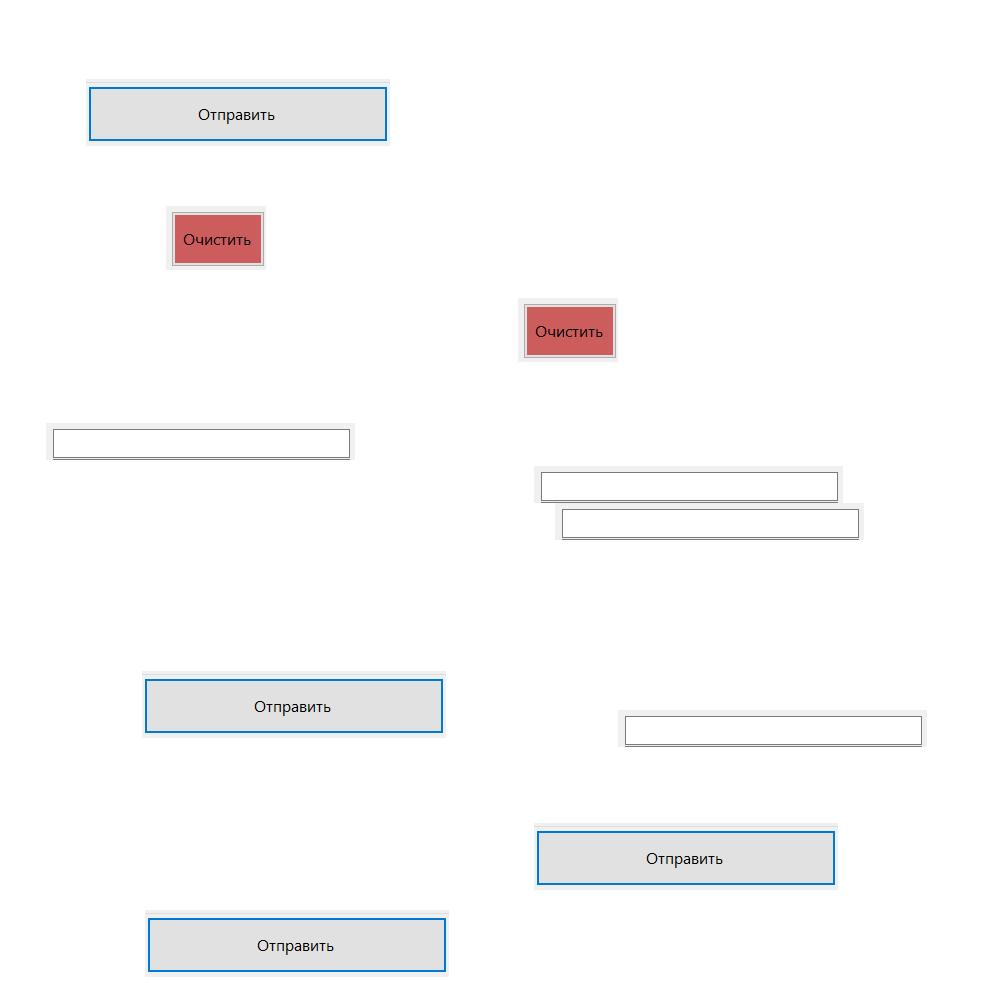Button: (142, 671, 446, 738), (86, 79, 390, 146), (145, 910, 449, 977), (534, 823, 838, 890), (166, 206, 266, 270), (518, 298, 618, 362)
EditText-: (618, 710, 927, 747), (534, 466, 843, 503), (46, 423, 355, 460), (555, 503, 864, 540)
